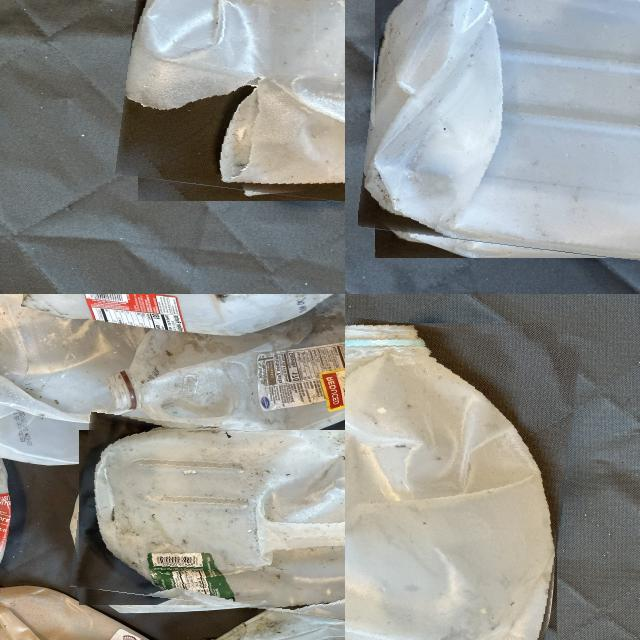milk-jug: (365, 0, 640, 274), (345, 313, 569, 640), (73, 420, 345, 615), (125, 0, 345, 214), (103, 294, 345, 447), (0, 294, 116, 466), (0, 585, 196, 640), (191, 600, 345, 640)
